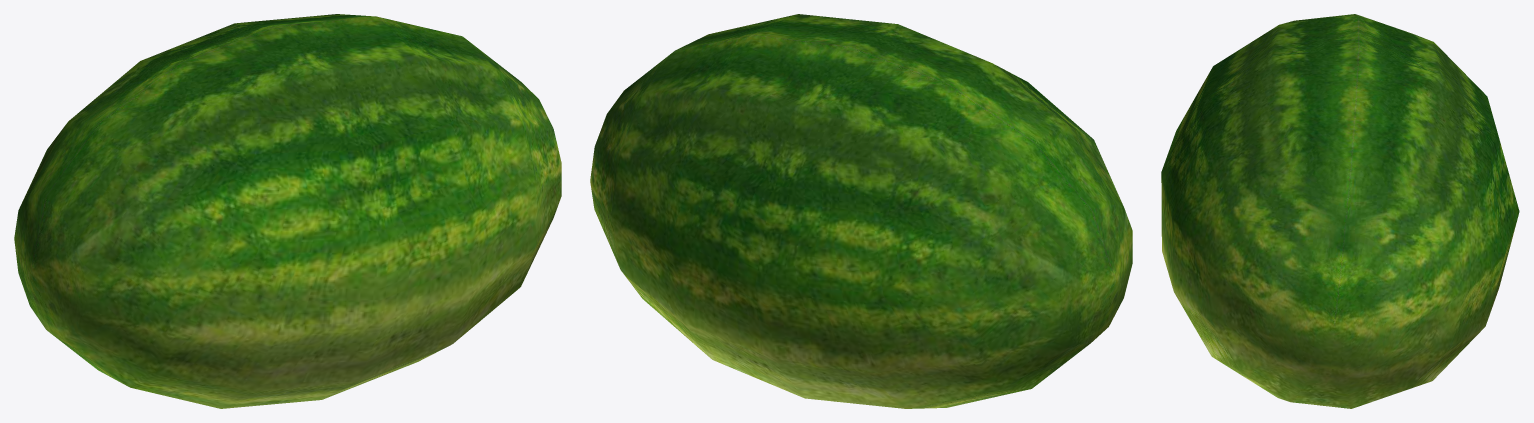
Rendered from sandia.glb.
3 renders of one model, left to right at view 1: azimuth 30°, elevation 25°; view 2: azimuth 150°, elevation 25°; view 3: azimuth 270°, elevation 25°, orthographic. The views are drawn at different scales.
Parts seen in each view (by area): view 1: sandia.001; view 2: sandia.001; view 3: sandia.001.
Boxes of the visible parts, box(x1,y1,x2,y2) form: sandia.001: box(14, 14, 561, 408); sandia.001: box(590, 14, 1132, 408); sandia.001: box(1161, 14, 1519, 408).
Size of the model in its own units: 0.4558 by 0.2986 by 0.2966.
Materials: 1 (1 with a texture image).
